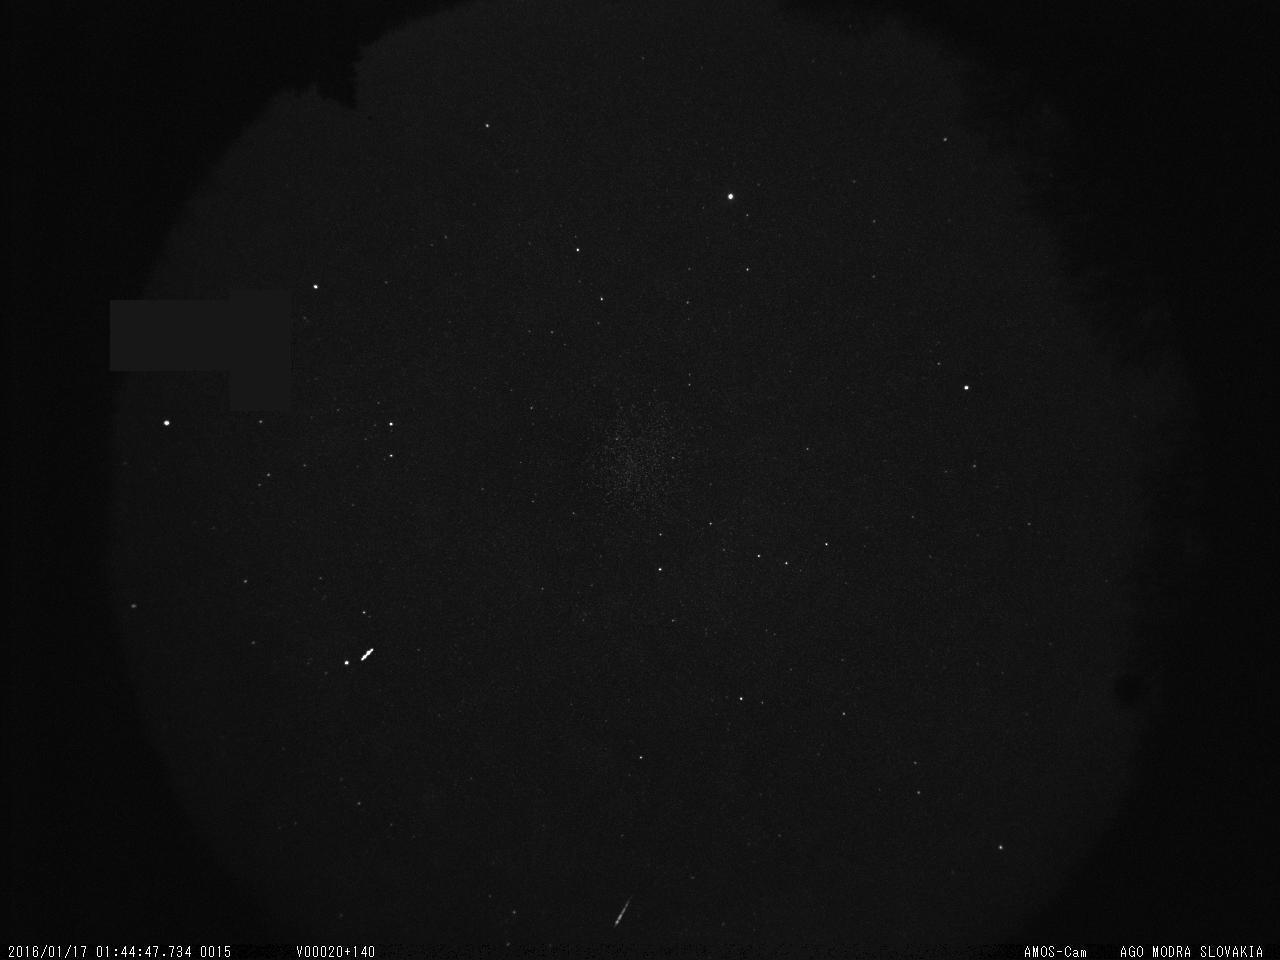meteor: (608, 897, 642, 935)
